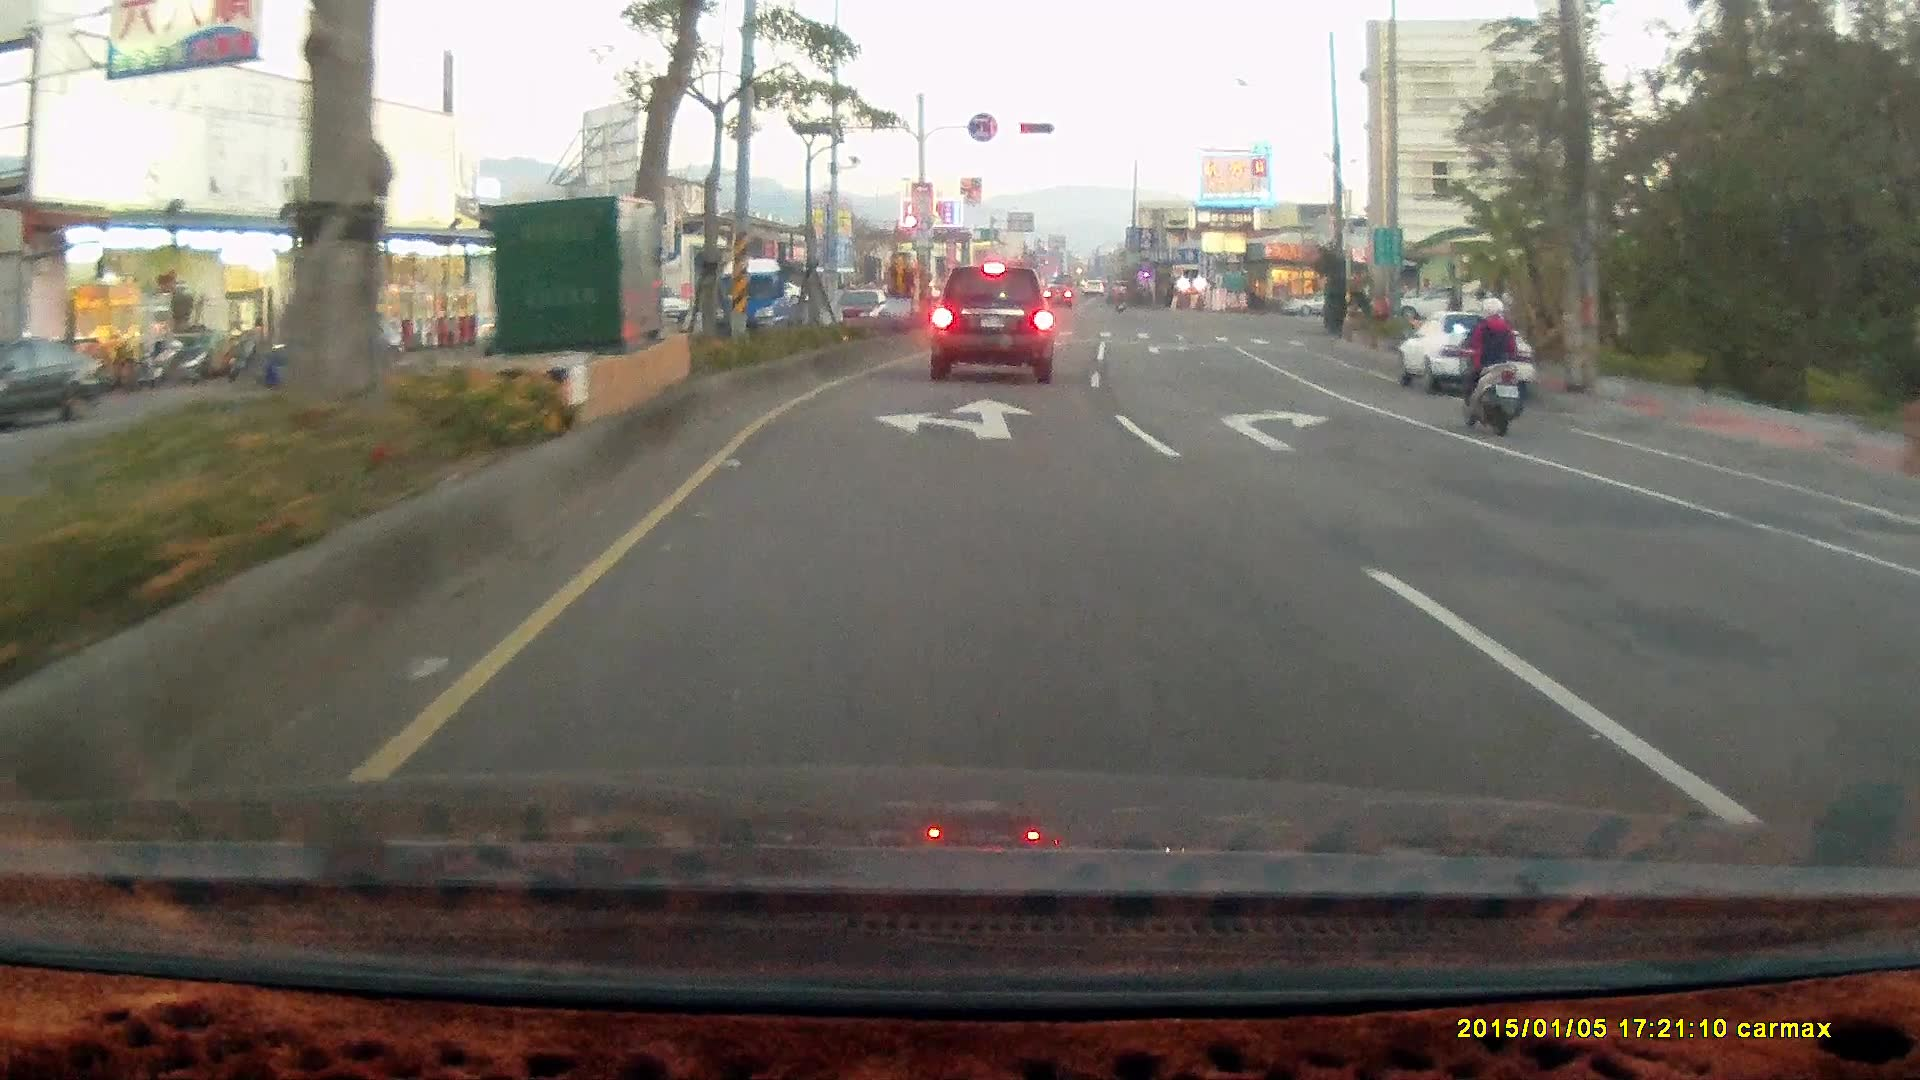rider: (1450, 293, 1527, 434)
vehicle: (928, 263, 1054, 382), (1394, 308, 1537, 396), (1402, 309, 1545, 392), (256, 311, 403, 386), (1896, 493, 1920, 836), (1883, 528, 1920, 690), (1391, 282, 1484, 323), (1281, 288, 1349, 316)
